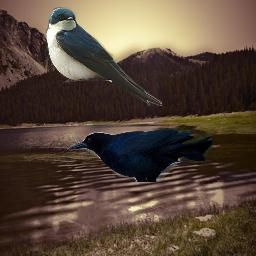Crow: (67, 128, 212, 182)
Swallow: (46, 7, 162, 106)
